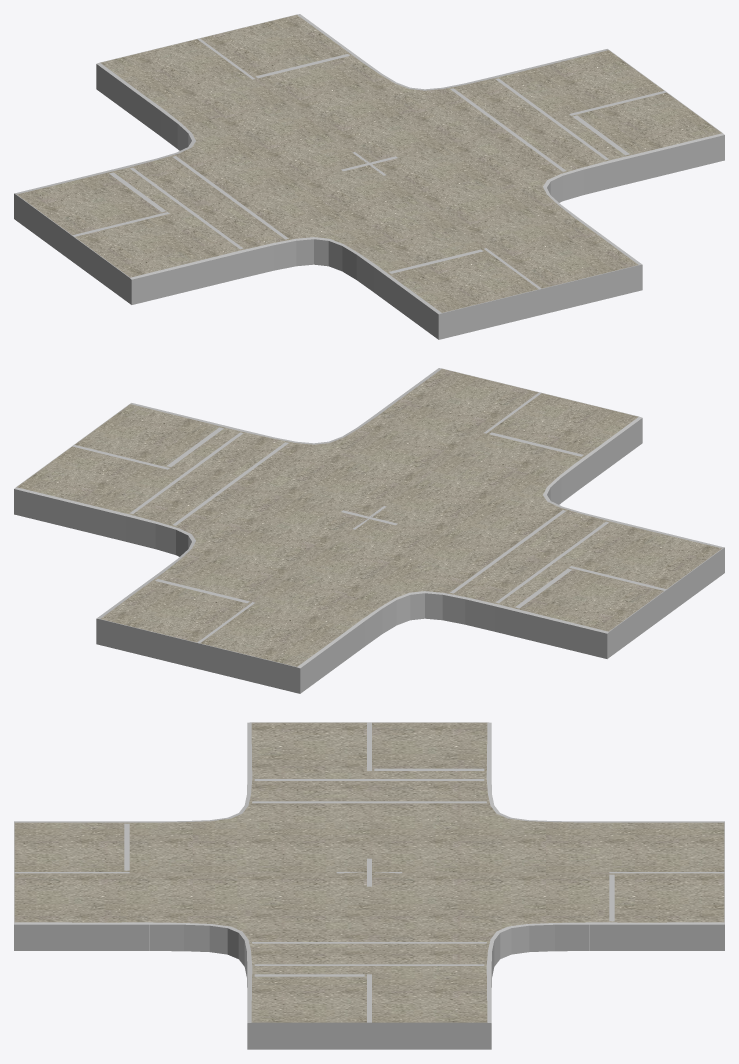
The model's file is road_01_cr02.fbx.
3 renders of one model, top to bottom at view 1: azimuth 30°, elevation 25°; view 2: azimuth 150°, elevation 25°; view 3: azimuth 270°, elevation 25°, orthographic. The views are drawn at different scales.
Visible parts, largest first — view 1: road_01_cr02; view 2: road_01_cr02; view 3: road_01_cr02.
Part boxes in pixels (box(x1,y1,x2,y2)): road_01_cr02: box(14, 14, 724, 339); road_01_cr02: box(14, 368, 724, 693); road_01_cr02: box(14, 722, 724, 1049).
Bounding box in the file's own units: 48 × 2 × 48.
